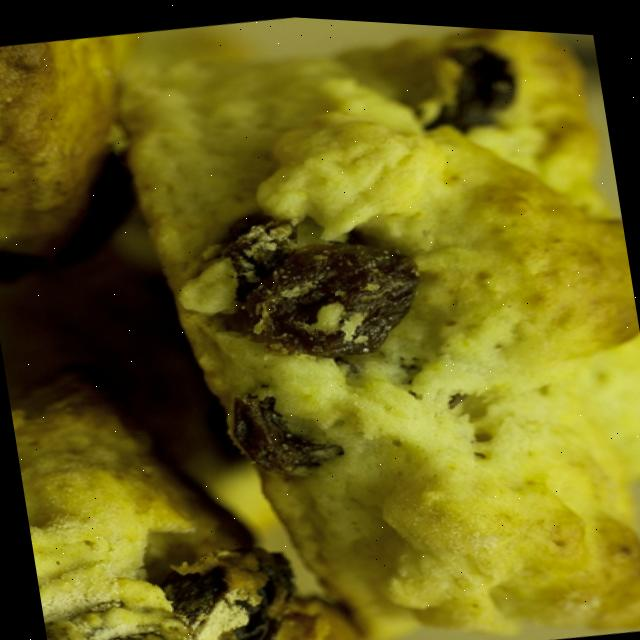面包点心: (110, 5, 640, 640)
